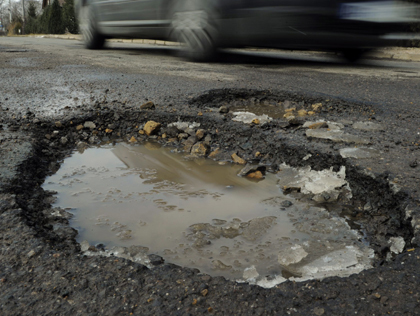pothole: (12, 102, 399, 295), (191, 68, 338, 127)
